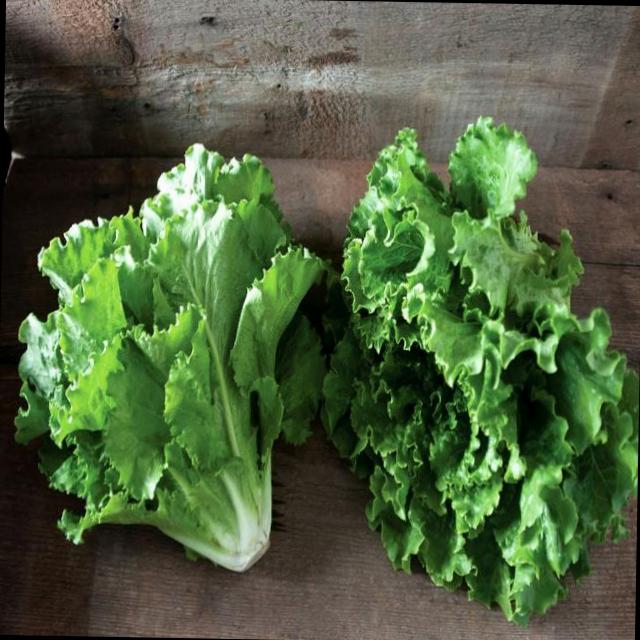Lettuce-Ready-to-Harvest: (323, 118, 639, 623), (14, 144, 325, 571)
